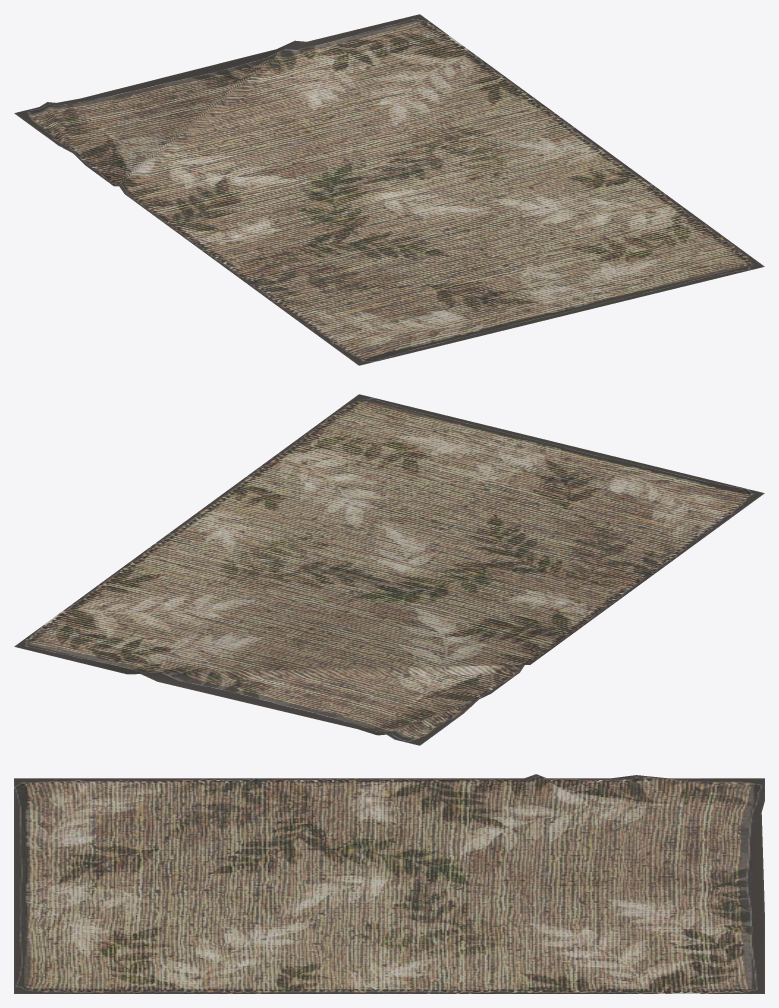
Rendered from Rug.fbx.
The picture shows the model from 3 angles, top to bottom: view 1: azimuth 30°, elevation 25°; view 2: azimuth 150°, elevation 25°; view 3: azimuth 270°, elevation 25°; orthographic projection. The views are drawn at different scales.
Visible parts, largest first — view 1: Rug; view 2: Rug; view 3: Rug.
Part boxes in pixels (left/top/right/bottom): Rug: left=14, top=14, right=764, bottom=365; Rug: left=14, top=394, right=764, bottom=745; Rug: left=14, top=774, right=764, bottom=993.
Bounding box in the file's own units: 3.36 × 0.0312 × 4.95.
